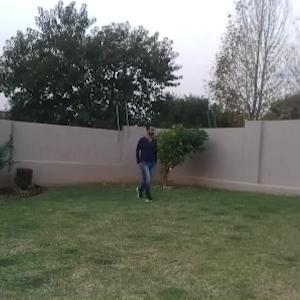follow: (133, 123, 159, 204)
